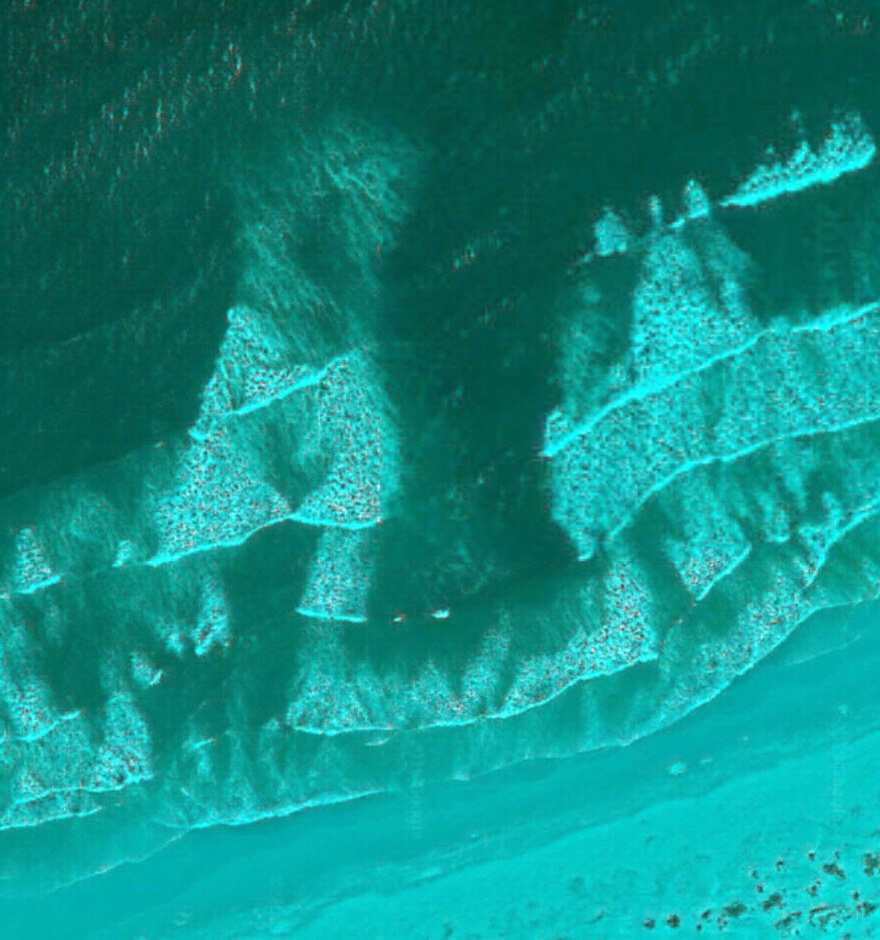rip_current: (293, 129, 668, 734)
